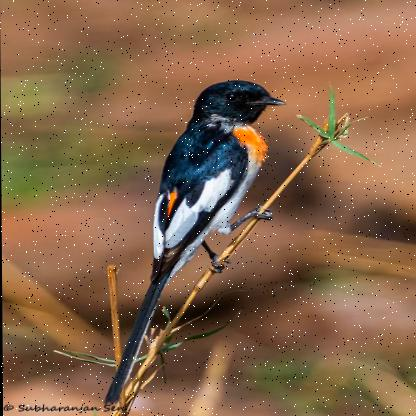Burung: (103, 79, 287, 405)
